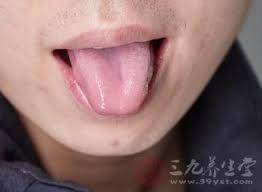baitaishe: (70, 49, 155, 116)
